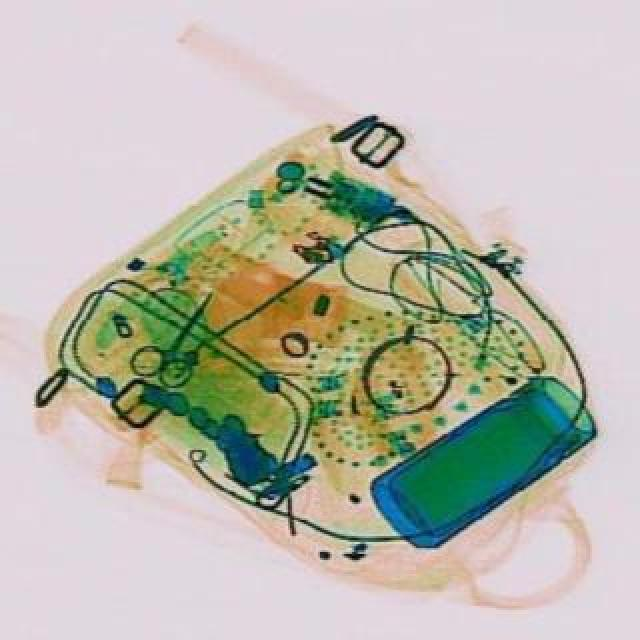pliers: (122, 280, 236, 400)
